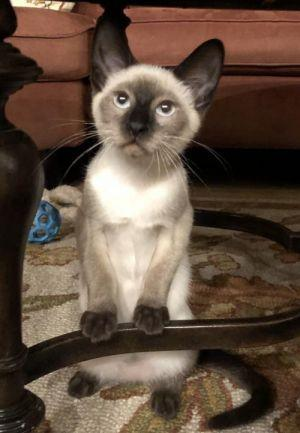siamese: (79, 4, 231, 175)
